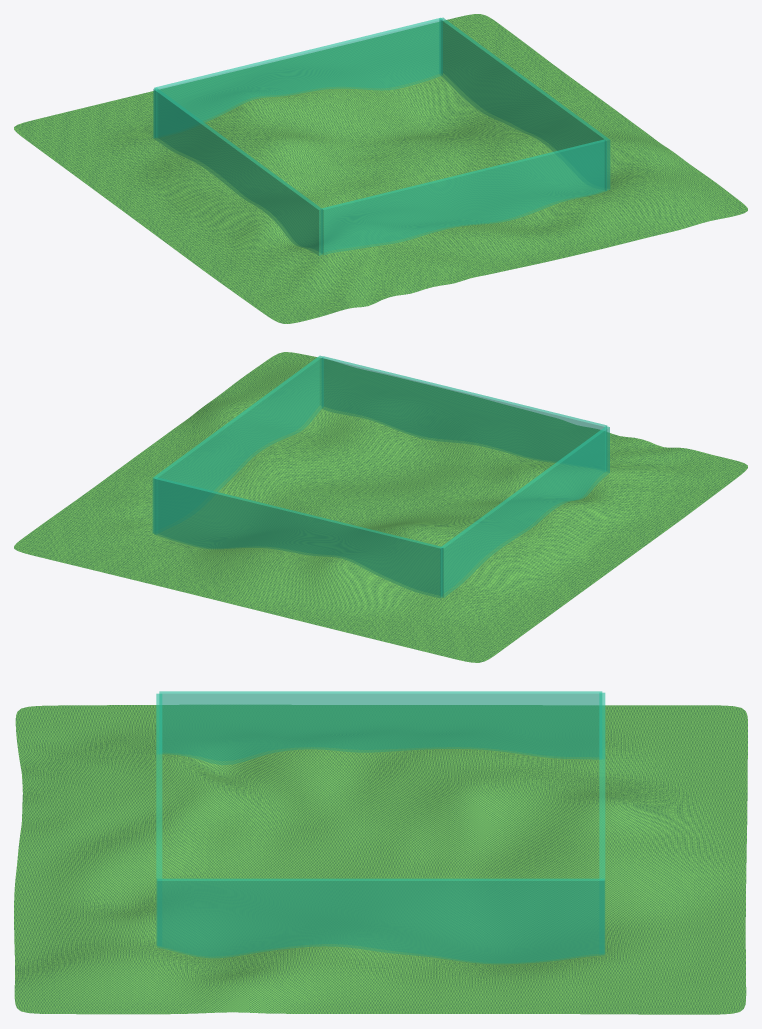
Rendered from ground.glb.
3 renders of one model, top to bottom at view 1: azimuth 30°, elevation 25°; view 2: azimuth 150°, elevation 25°; view 3: azimuth 270°, elevation 25°, orthographic. The views are drawn at different scales.
Parts seen in each view (by area): view 1: ground-col, wall4-col, wall3-col, wall2-col, wall1-col; view 2: ground-col, wall4-col, wall3-col, wall2-col, wall1-col; view 3: ground-col, wall2-col, wall1-col, wall3-col, wall4-col.
Boxes of the visible parts, bbox=[...] form: ground-col: bbox=[14, 14, 747, 323]; wall4-col: bbox=[321, 139, 606, 254]; wall3-col: bbox=[154, 18, 442, 137]; wall2-col: bbox=[439, 17, 610, 190]; wall1-col: bbox=[153, 88, 322, 255]; ground-col: bbox=[14, 352, 747, 662]; wall4-col: bbox=[321, 356, 606, 471]; wall3-col: bbox=[154, 477, 442, 598]; wall2-col: bbox=[152, 355, 323, 534]; wall1-col: bbox=[440, 426, 609, 597]; ground-col: bbox=[14, 705, 747, 1014]; wall2-col: bbox=[157, 878, 604, 963]; wall1-col: bbox=[159, 691, 602, 764]; wall3-col: bbox=[599, 692, 605, 954]; wall4-col: bbox=[156, 693, 162, 946].
Bounding box in the file's own units: 516 × 75.95 × 517.
2 materials, 2 textured.
